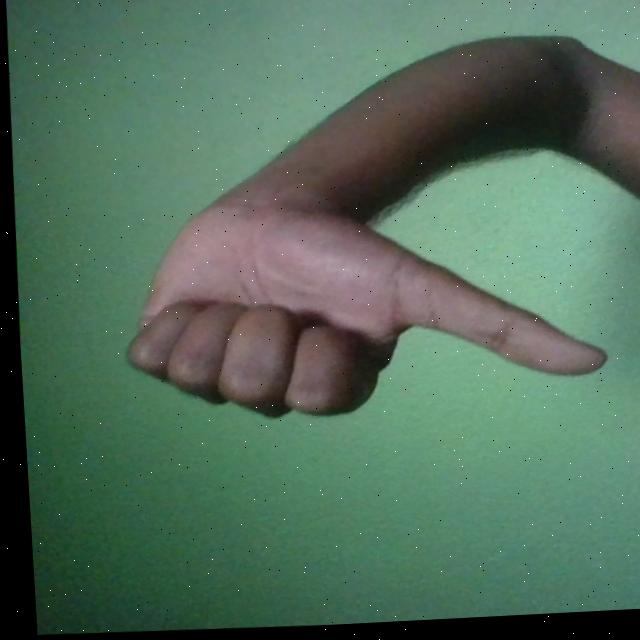Dislike: (114, 186, 608, 432)
